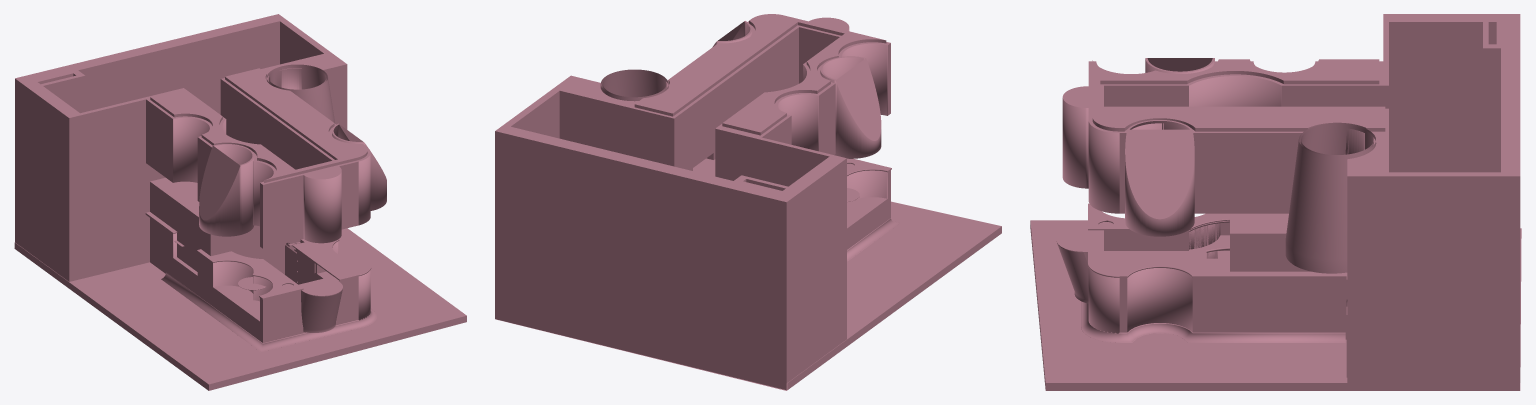
File: asset.glb
3 views of the same model, side by side, from view 1: azimuth 30°, elevation 25°; view 2: azimuth 150°, elevation 25°; view 3: azimuth 270°, elevation 25° (orthographic). The views are drawn at different scales.
Visible parts, largest first — view 1: the final model, Cube; view 2: the final model; view 3: the final model, Cube.
Boxes of the visible parts, box(x1,y1,x2,y2) form: the final model: box(14, 14, 466, 390); Cube: box(150, 177, 286, 274); the final model: box(495, 14, 1001, 390); the final model: box(1030, 14, 1521, 390); Cube: box(1230, 213, 1310, 271).
Bounding box in the file's own units: 4.98 × 3.12 × 6.36.
